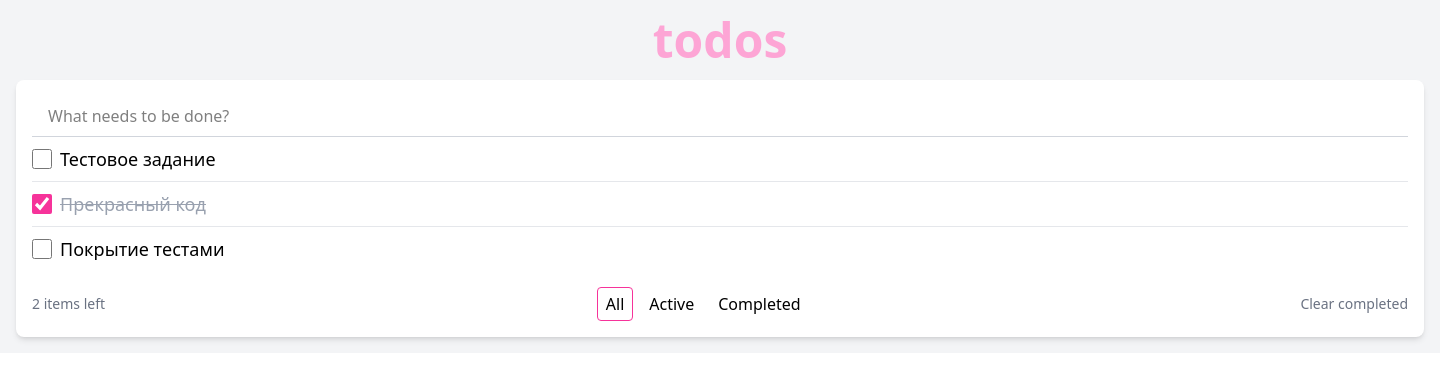
Test: ToDo App › filters todos by active
# Переключаем фильтр на "Active"
What coordinates should you click on to do the following:
click the button "Active"
I would click on:
 (672, 304)
Its box is [641,287,702,321].
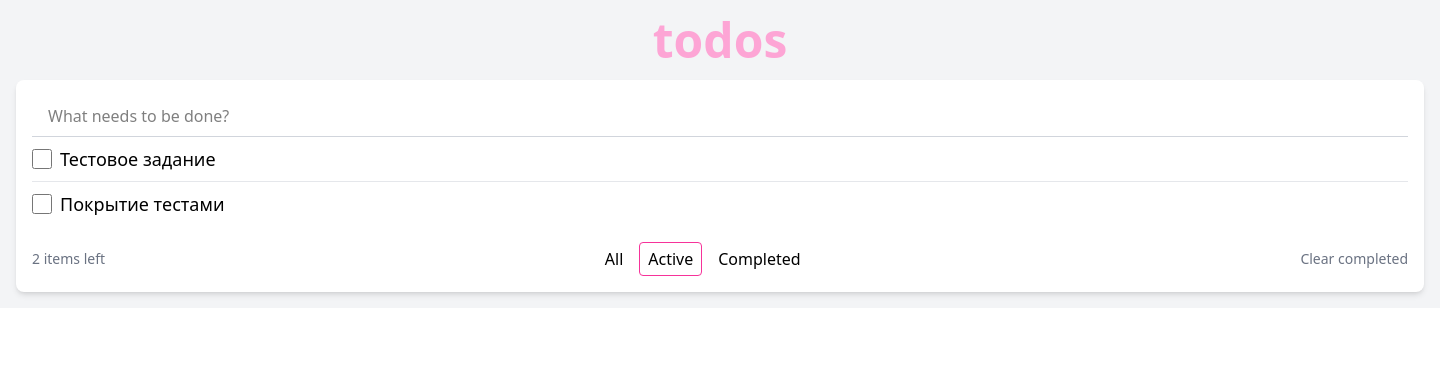
Expected: the text "Тестовое задание" is shown, [60,145,216,173]
Now the text "Прекрасный код" is gone
